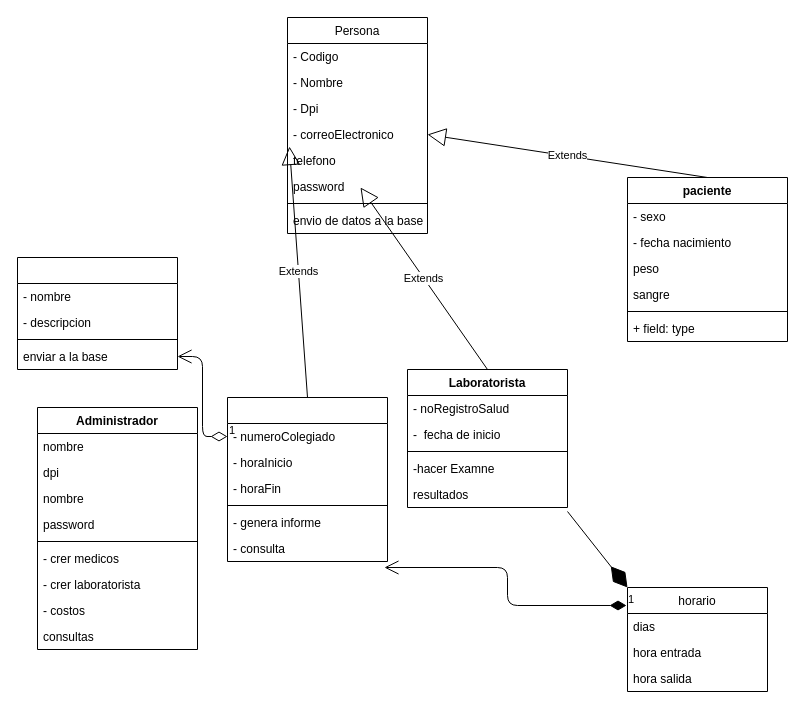
Image size: 805x712. Some labels were removed from this diagram. The box of each missing label's shape, as (x1, y1, x2, y2) in pixels:
Especialidad: (16, 256, 178, 370)
Medico: (226, 396, 388, 562)
